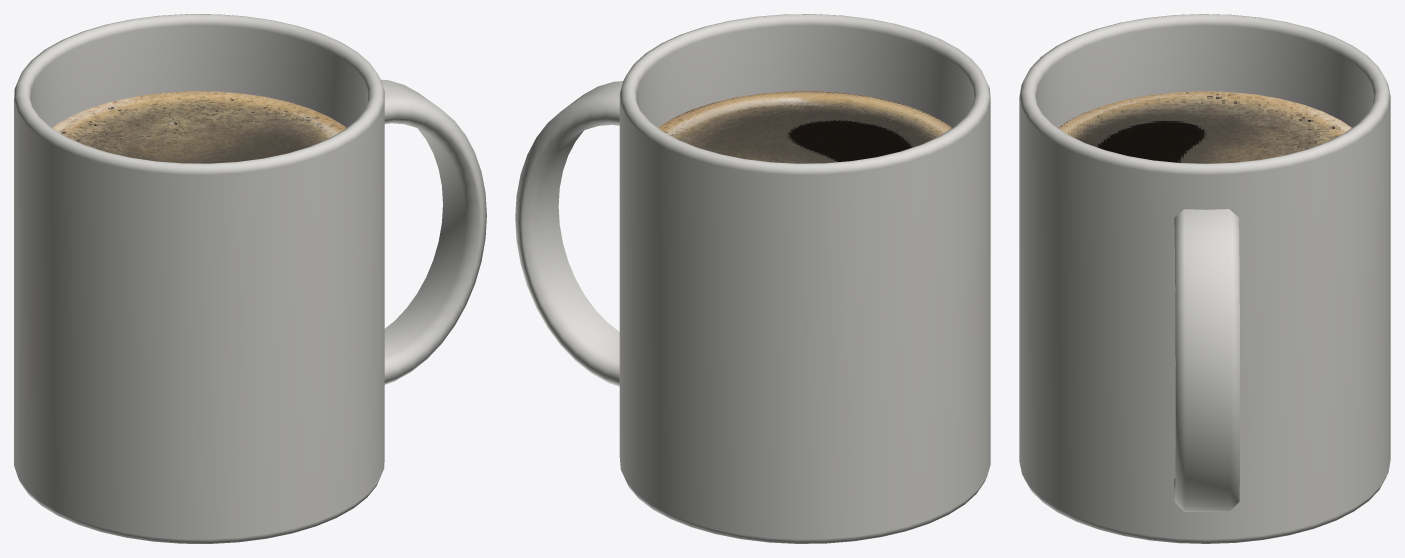
Rendered from mug.glb.
The picture shows the model from 3 angles, left to right: view 1: azimuth 30°, elevation 25°; view 2: azimuth 150°, elevation 25°; view 3: azimuth 270°, elevation 25°; orthographic projection.
Visible parts, largest first — view 1: mug, coffee; view 2: mug, coffee; view 3: mug, coffee.
Part boxes in pixels (x1=…): mug: x1=14, y1=14, x2=486, y2=543; coffee: x1=52, y1=91, x2=346, y2=163; mug: x1=515, y1=14, x2=990, y2=543; coffee: x1=658, y1=91, x2=951, y2=163; mug: x1=1019, y1=14, x2=1390, y2=543; coffee: x1=1058, y1=91, x2=1351, y2=163.
Size of the model in its own units: 0.1087 by 0.09 by 0.0797.
3 materials, 2 textured.
